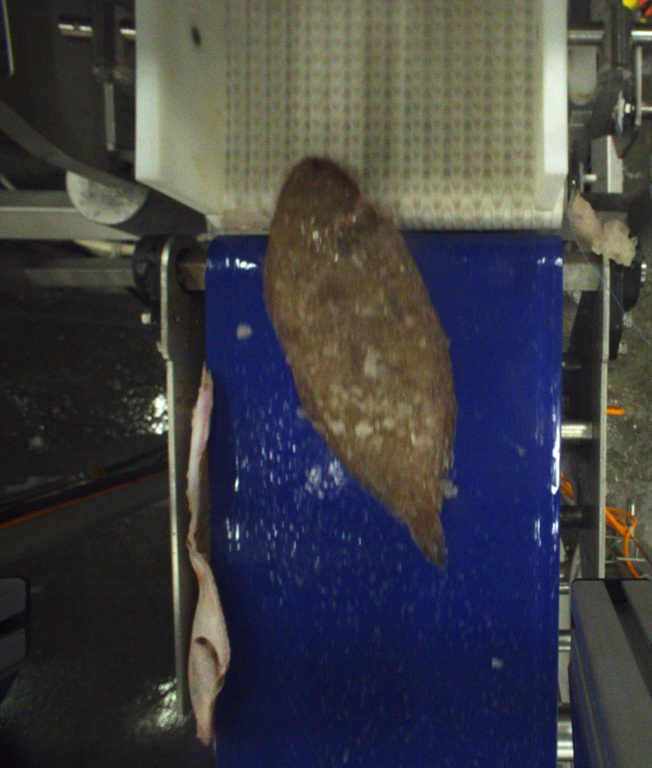SOL: (266, 154, 459, 566)
